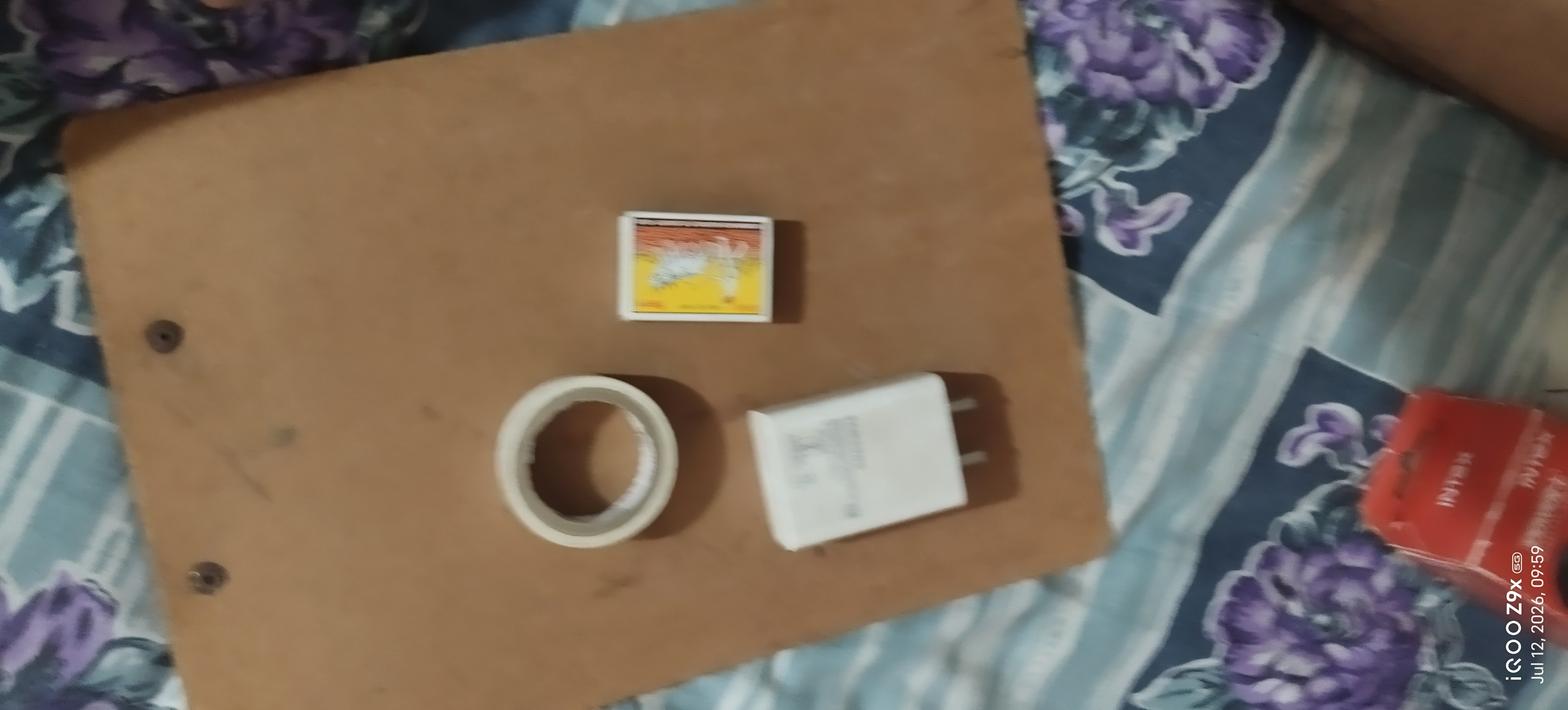charger: (732, 360, 1007, 571)
matchbox: (606, 194, 784, 346)
tape_roll: (483, 365, 692, 566)
